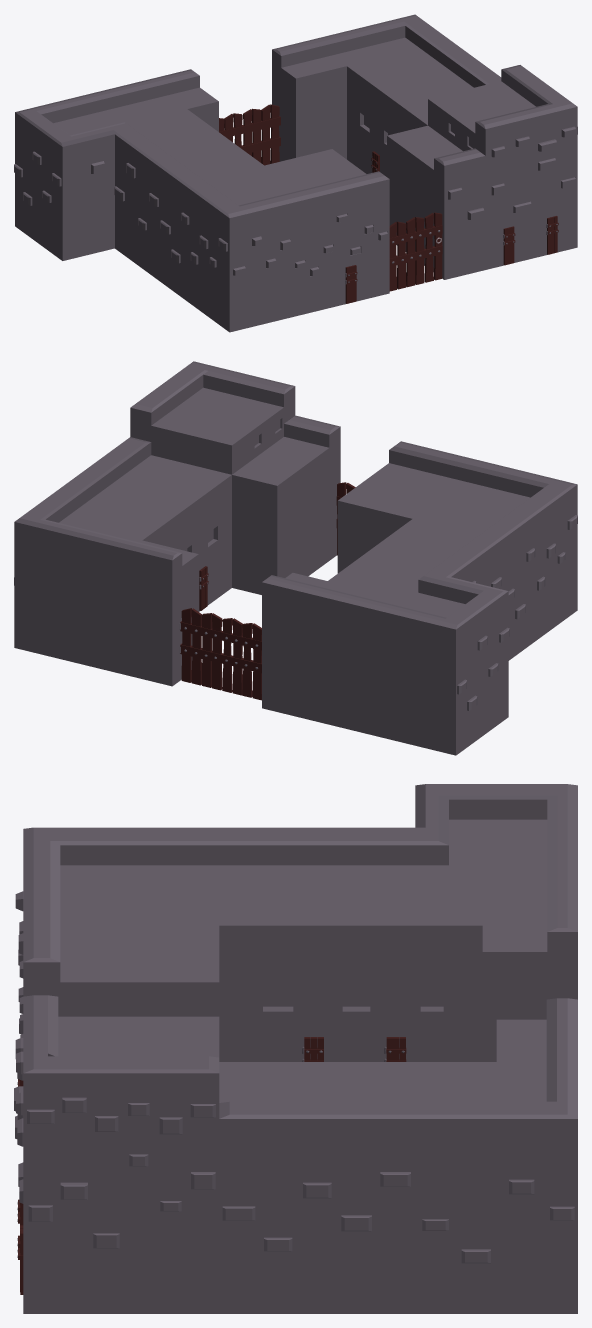
File: Military_Warehouse.fbx
3 renders of one model, top to bottom at view 1: azimuth 30°, elevation 25°; view 2: azimuth 150°, elevation 25°; view 3: azimuth 270°, elevation 25°, orthographic. The views are drawn at different scales.
Visible parts, largest first — view 1: Military_Warehouse; view 2: Military_Warehouse; view 3: Military_Warehouse.
Part boxes in pixels (box(x1,y1,x2,y2)): Military_Warehouse: box(14, 14, 577, 332); Military_Warehouse: box(14, 361, 577, 755); Military_Warehouse: box(14, 784, 577, 1313).
Size of the model in its own units: 1169 by 1660 by 556.
